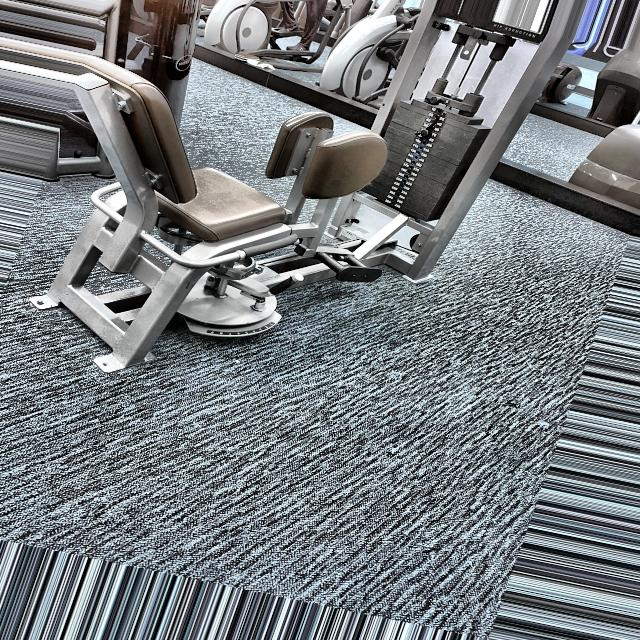hip_adduction_machine: (99, 61, 427, 386), (269, 102, 414, 300), (493, 22, 542, 40)
